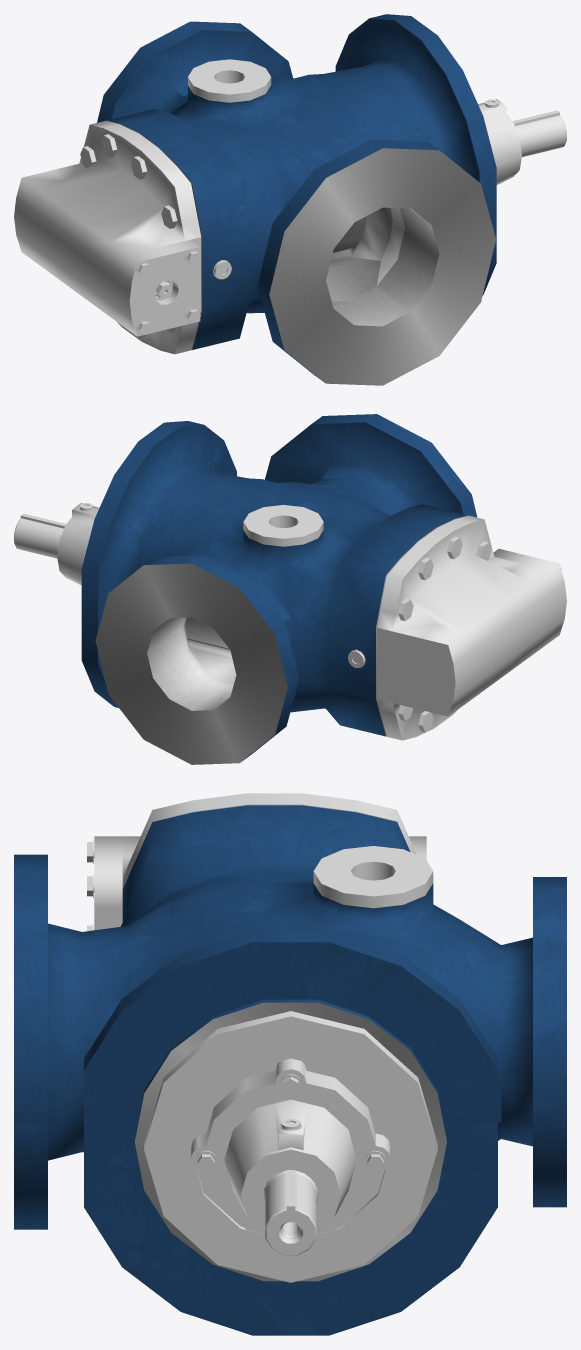
File: ScrewPump.FBX
The picture shows the model from 3 angles, top to bottom: view 1: azimuth 30°, elevation 25°; view 2: azimuth 150°, elevation 25°; view 3: azimuth 270°, elevation 25°; orthographic projection. The views are drawn at different scales.
Visible parts, largest first — view 1: 401-PumpBody1, 480-ValveHousing1, 6010-CompleteValveCover1, 424-Cover1, 5200-CompleteCover1, 1020-CompletePowerRotor1, 453-Screw1, 455-Screw1; view 2: 401-PumpBody1, 480-ValveHousing1, 424-Cover1, 5200-CompleteCover1, 453-Screw1, 1020-CompletePowerRotor1, 6010-CompleteValveCover1; view 3: 401-PumpBody1, 501-FrontCover1, 5200-CompleteCover1, 424-Cover1, 480-ValveHousing1, 1020-CompletePowerRotor1, 6010-CompleteValveCover1, 521-Screw1.
Part boxes in pixels (<box>): 401-PumpBody1: <box>97,14,496,385</box>; 480-ValveHousing1: <box>14,120,201,354</box>; 6010-CompleteValveCover1: <box>120,240,200,336</box>; 424-Cover1: <box>188,59,271,102</box>; 5200-CompleteCover1: <box>478,99,521,184</box>; 1020-CompletePowerRotor1: <box>515,115,566,157</box>; 453-Screw1: <box>80,134,177,337</box>; 455-Screw1: <box>136,249,200,335</box>; 401-PumpBody1: <box>81,414,477,764</box>; 480-ValveHousing1: <box>377,515,557,740</box>; 424-Cover1: <box>243,505,323,546</box>; 5200-CompleteCover1: <box>57,503,99,585</box>; 453-Screw1: <box>398,536,491,732</box>; 1020-CompletePowerRotor1: <box>14,518,63,558</box>; 6010-CompleteValveCover1: <box>493,548,566,641</box>; 401-PumpBody1: <box>14,805,566,1335</box>; 501-FrontCover1: <box>144,1011,437,1282</box>; 5200-CompleteCover1: <box>190,1058,391,1234</box>; 424-Cover1: <box>313,846,433,908</box>; 480-ValveHousing1: <box>122,793,426,888</box>; 1020-CompletePowerRotor1: <box>264,1171,317,1255</box>; 6010-CompleteValveCover1: <box>94,836,122,930</box>; 521-Screw1: <box>195,1074,385,1170</box>.
Bounding box in the file's own units: 354 × 186 × 237.
